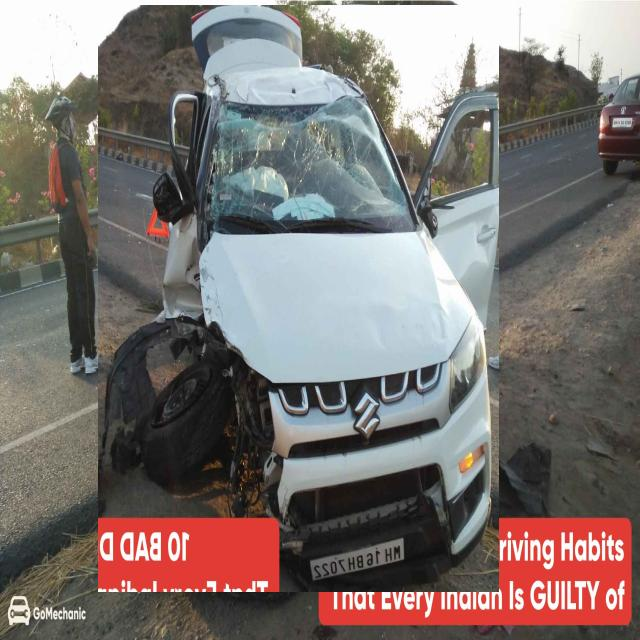accident: (99, 5, 499, 592)
